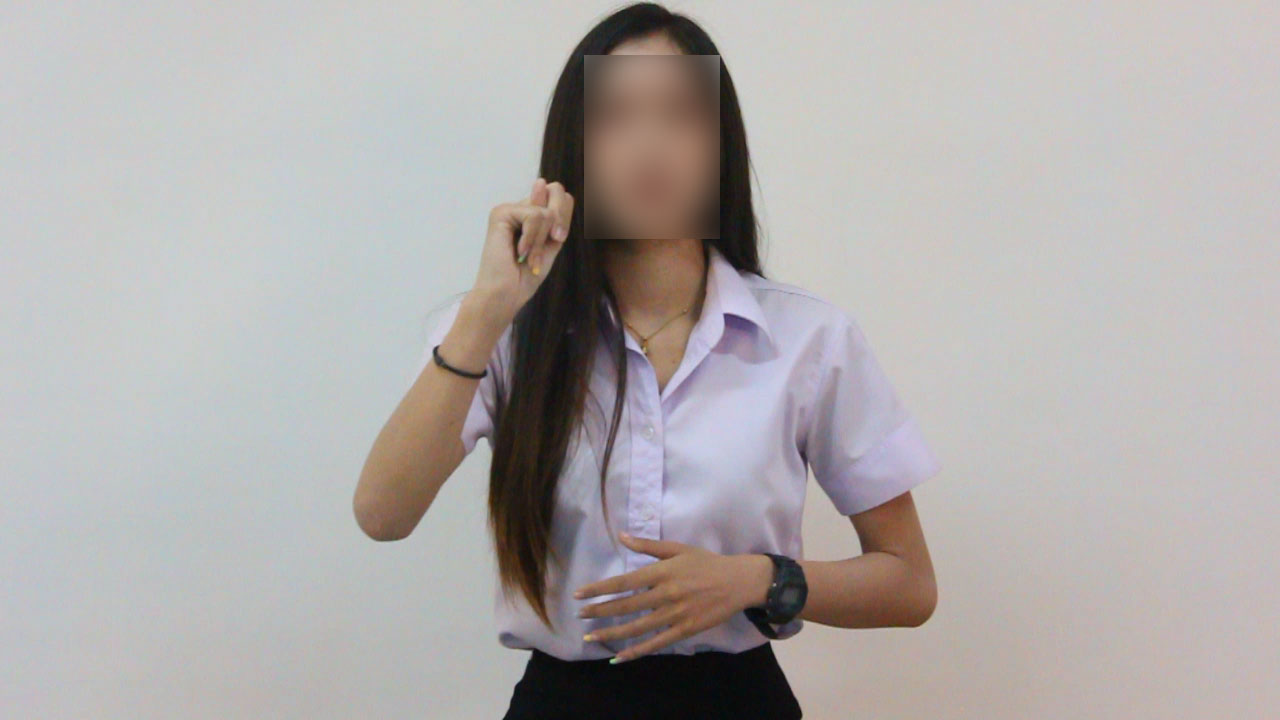nor: (460, 163, 581, 297)
